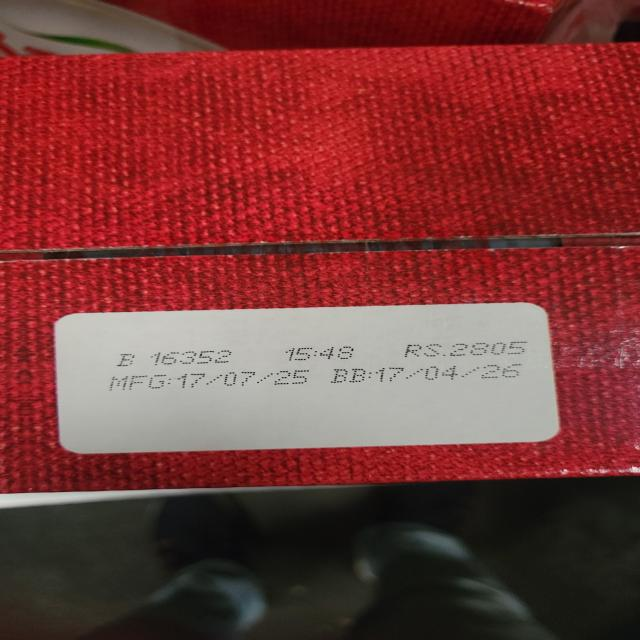BB: (334, 364, 526, 384)
Batch: (116, 351, 241, 367)
MFG: (112, 371, 312, 390)
RS: (407, 341, 532, 357)
TimeStamp: (284, 347, 359, 361)
